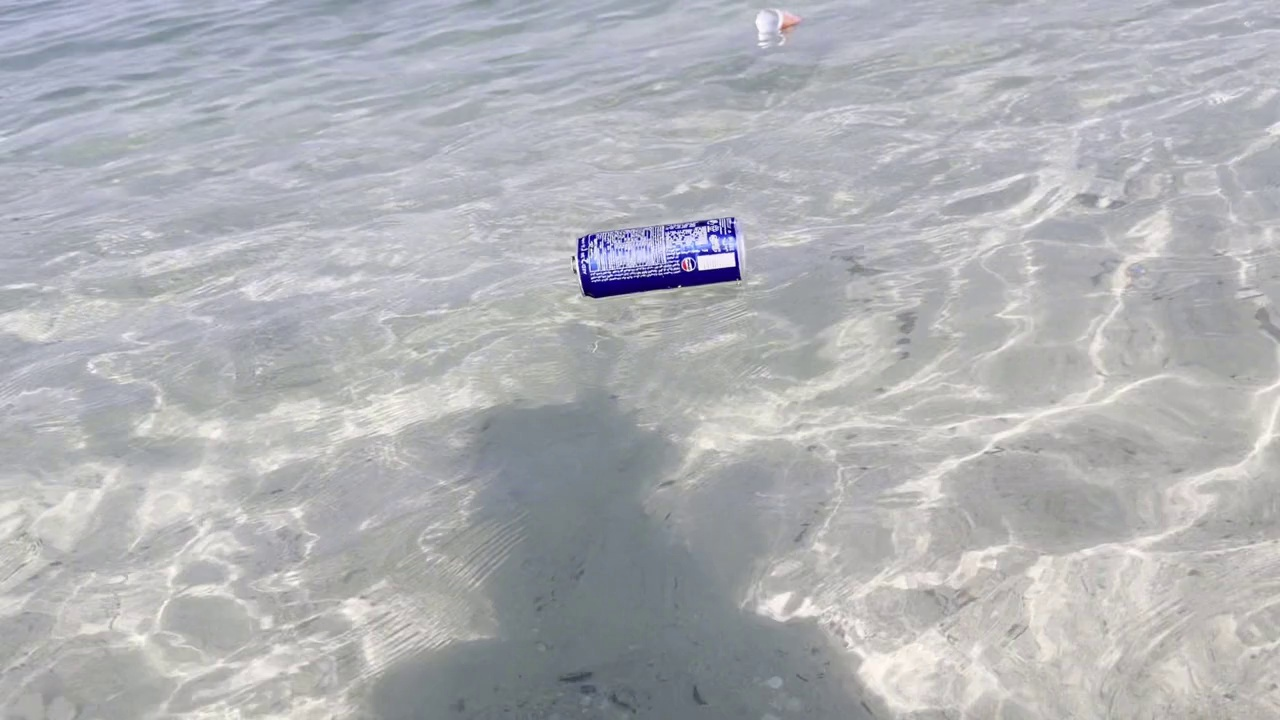debris: (566, 207, 752, 306), (750, 6, 803, 35)
